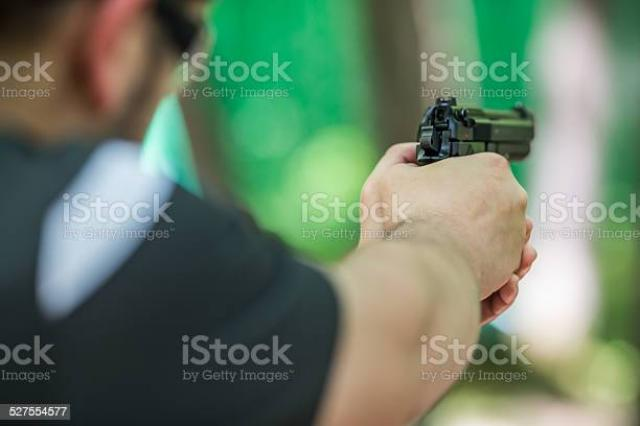handgun: (410, 92, 540, 182)
